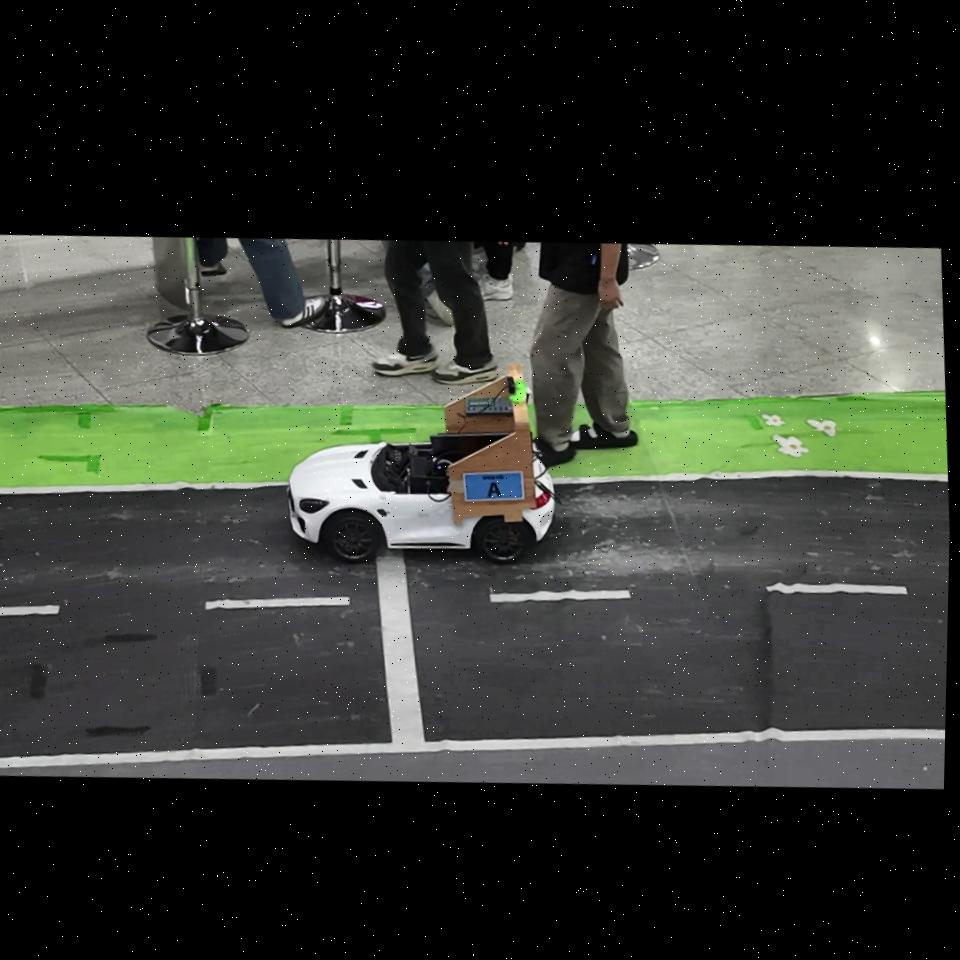broken_line: (205, 597, 350, 610), (766, 582, 908, 594), (490, 590, 631, 602), (0, 605, 60, 616)
